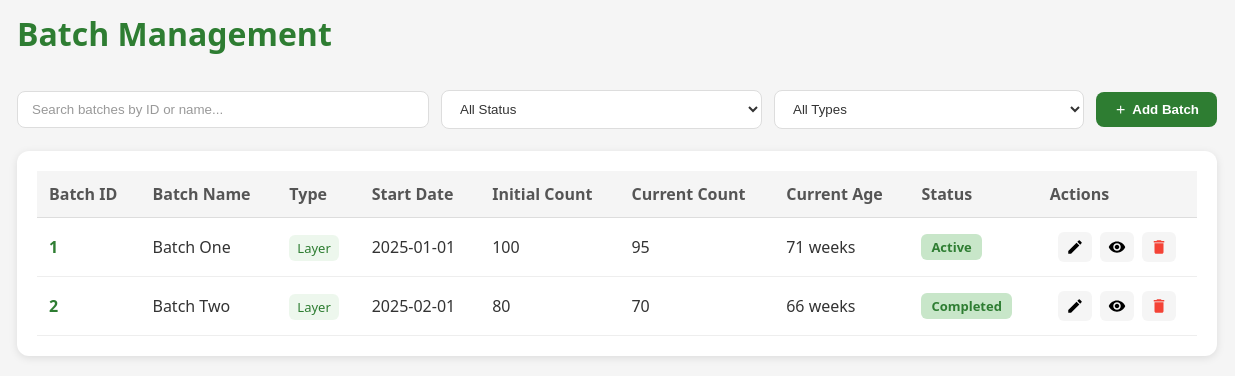
it: BatchManagement Component › clicking Delete removes batch after confirm
This screenshot has width=1235, height=376.
Expected: the text "Batch One" is shown, [140,218,277,276]
Step 1. Click the 4th button → (1159, 247), box [1142,232,1176,262]
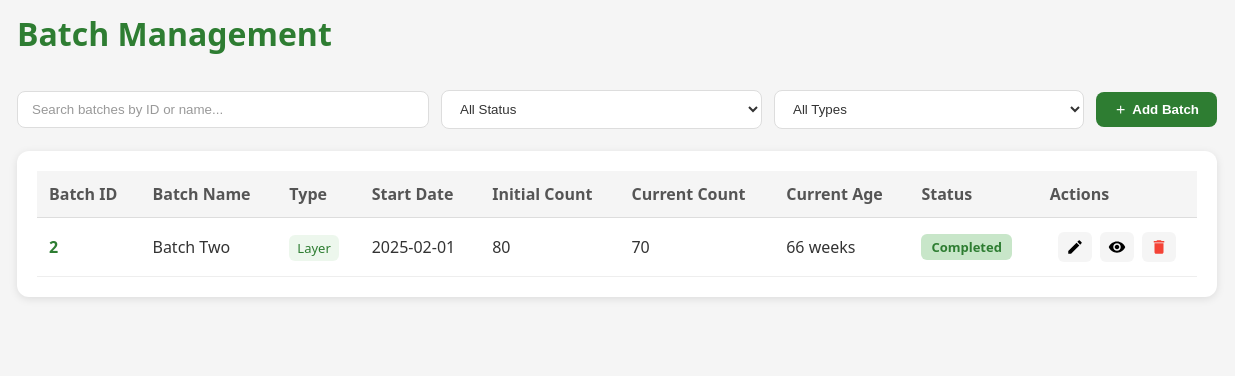
Now the text "Batch One" is gone
